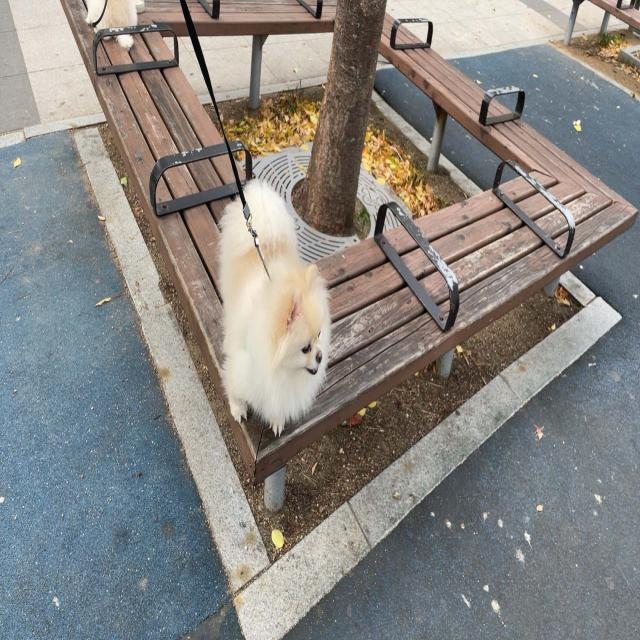Dog: (221, 177, 331, 440)
